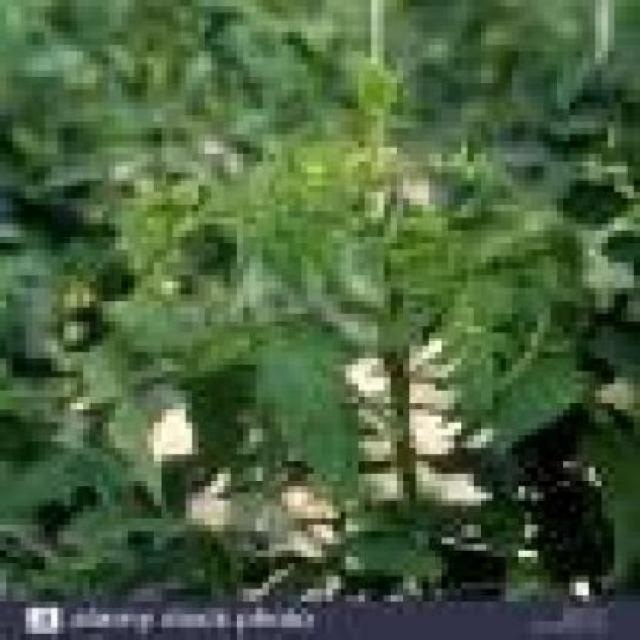Healthy Leaf: (373, 206, 501, 443), (60, 327, 206, 520), (258, 341, 366, 495), (232, 193, 289, 309)
